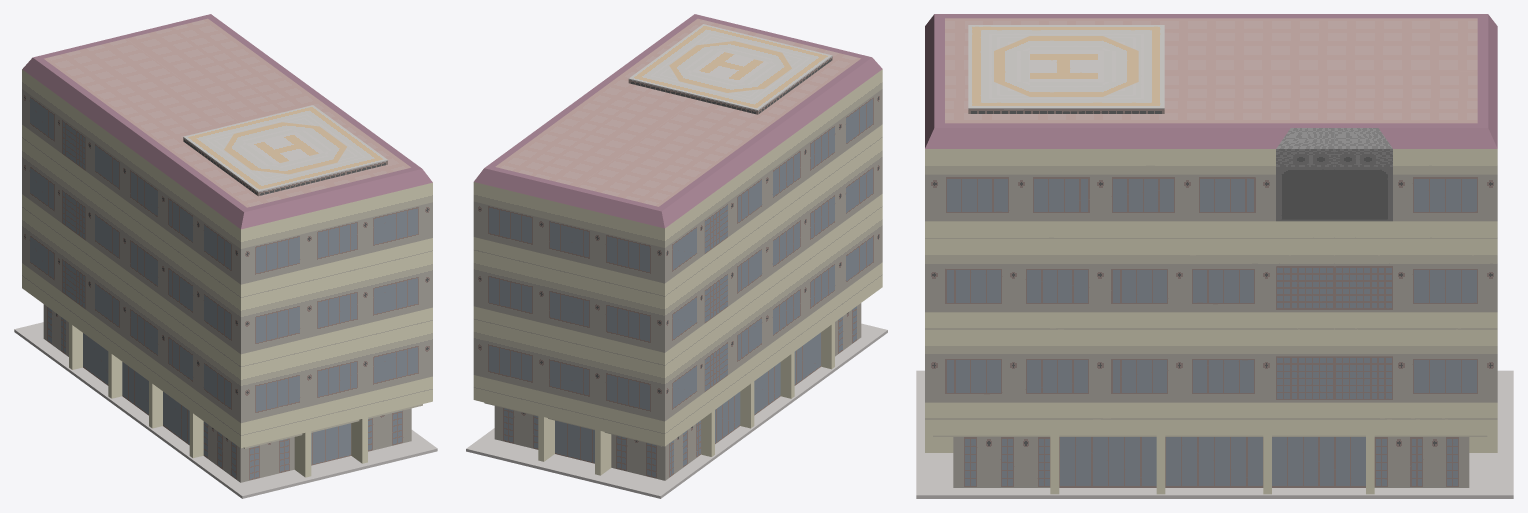
File: 055f_New_Hotel_Building.glb
3 renders of one model, left to right at view 1: azimuth 30°, elevation 25°; view 2: azimuth 150°, elevation 25°; view 3: azimuth 270°, elevation 25°, orthographic. The views are drawn at different scales.
Visible parts, largest first — view 1: part_0; view 2: part_0; view 3: part_0.
Part boxes in pixels (x1,y1,x2,y2): part_0: (14,14,437,498); part_0: (466,14,887,498); part_0: (916,14,1513,498).
Bounding box in the file's own units: 9.69 × 13.46 × 19.59.
1 material, 1 textured.
